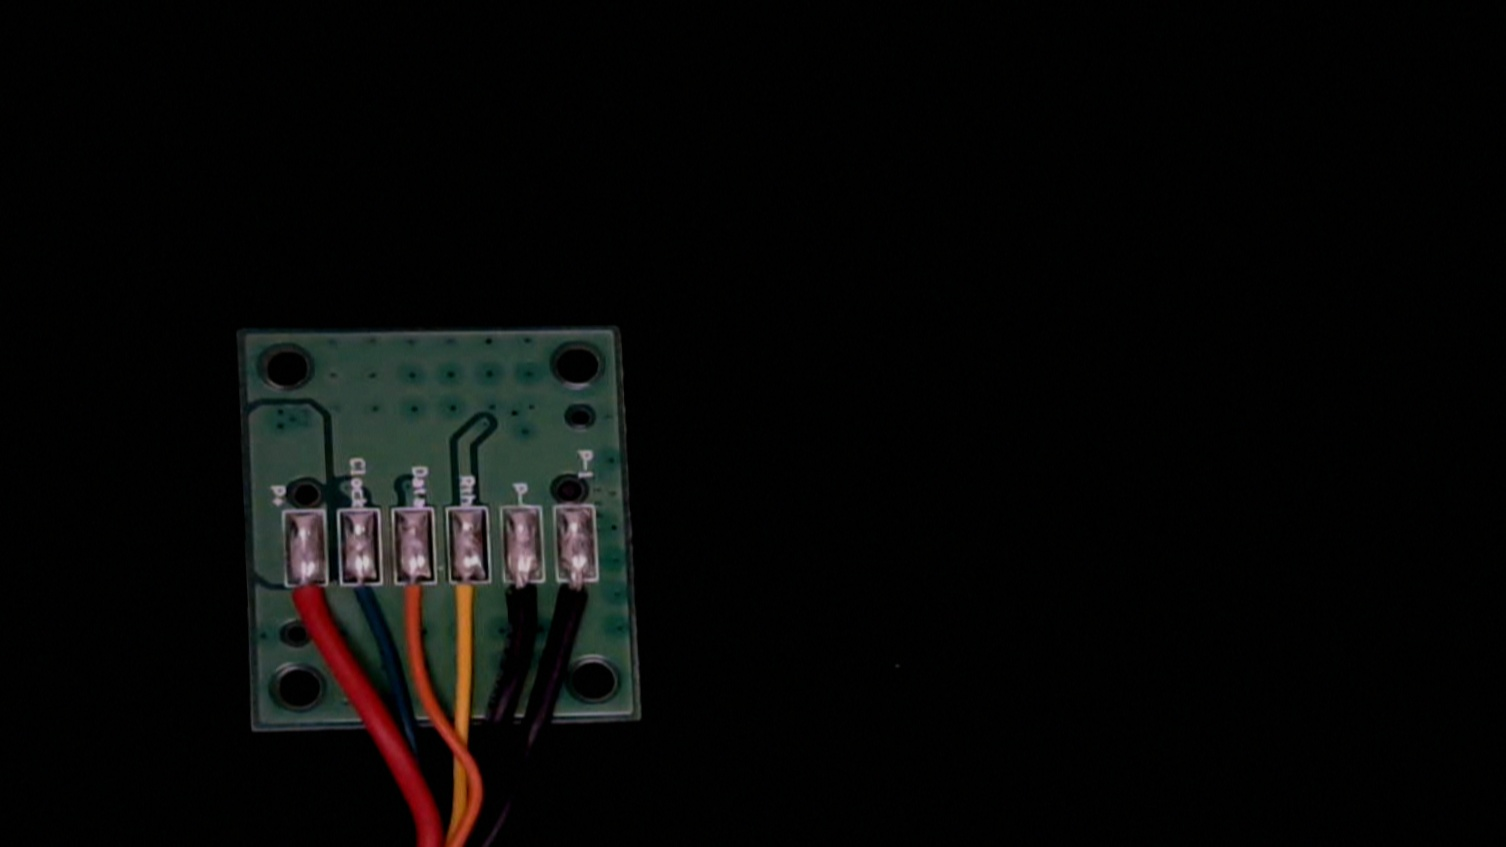Black: (450, 548, 486, 635)
Black1: (496, 552, 534, 626)
Green: (308, 551, 342, 623)
Orange: (356, 548, 392, 627)
Red: (261, 549, 299, 631)
Yellow: (404, 548, 439, 637)
